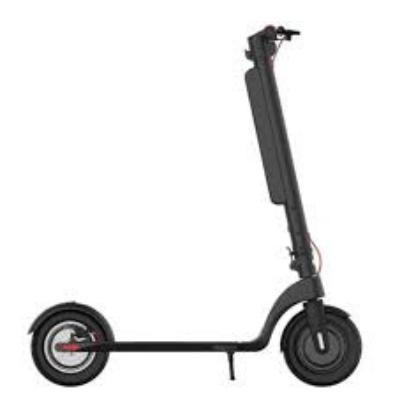bike: (11, 24, 363, 391)
